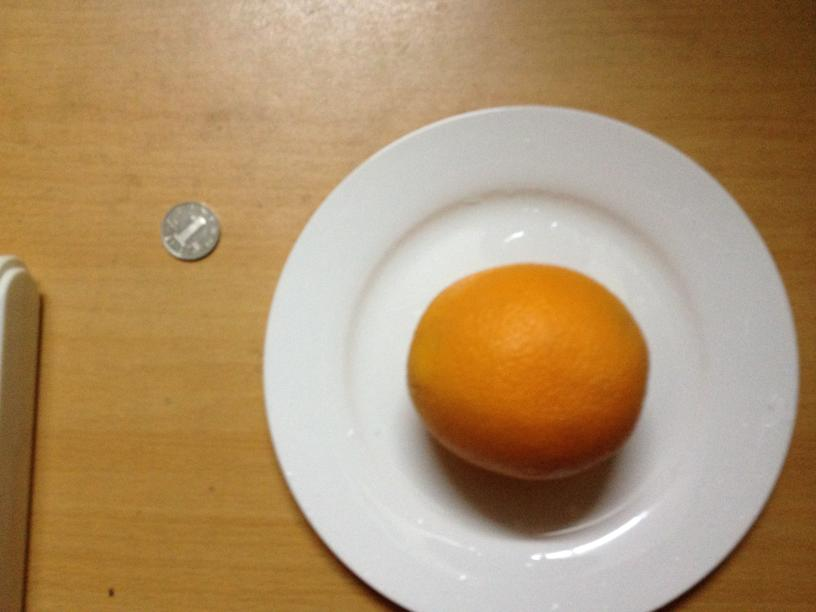coin: (160, 200, 218, 260)
orange: (402, 265, 650, 477)
